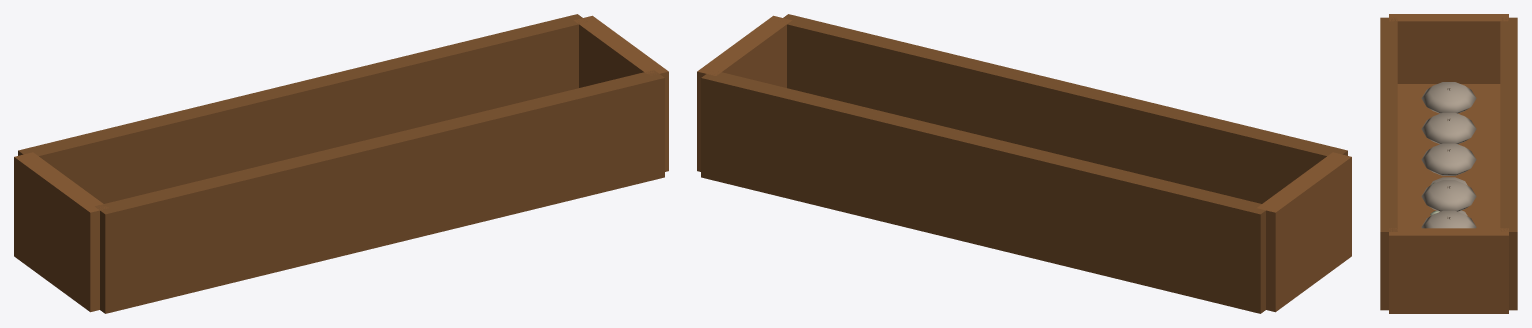
Rendered from Sea_Clam.fbx.
The picture shows the model from 3 angles, left to right: view 1: azimuth 30°, elevation 25°; view 2: azimuth 150°, elevation 25°; view 3: azimuth 270°, elevation 25°; orthographic projection. The views are drawn at different scales.
Parts seen in each view (by area): view 1: Sea_Clam__Stack; view 2: Sea_Clam__Stack; view 3: Sea_Clam__Stack, Sea_Clam.
Part boxes in pixels (x1,y1,x2,y2): Sea_Clam__Stack: [14, 14, 668, 313]; Sea_Clam__Stack: [697, 14, 1351, 313]; Sea_Clam__Stack: [1380, 14, 1517, 313]; Sea_Clam: [1430, 177, 1467, 215].
Size of the model in its own units: 0.2433 by 0.04 by 0.0636.
